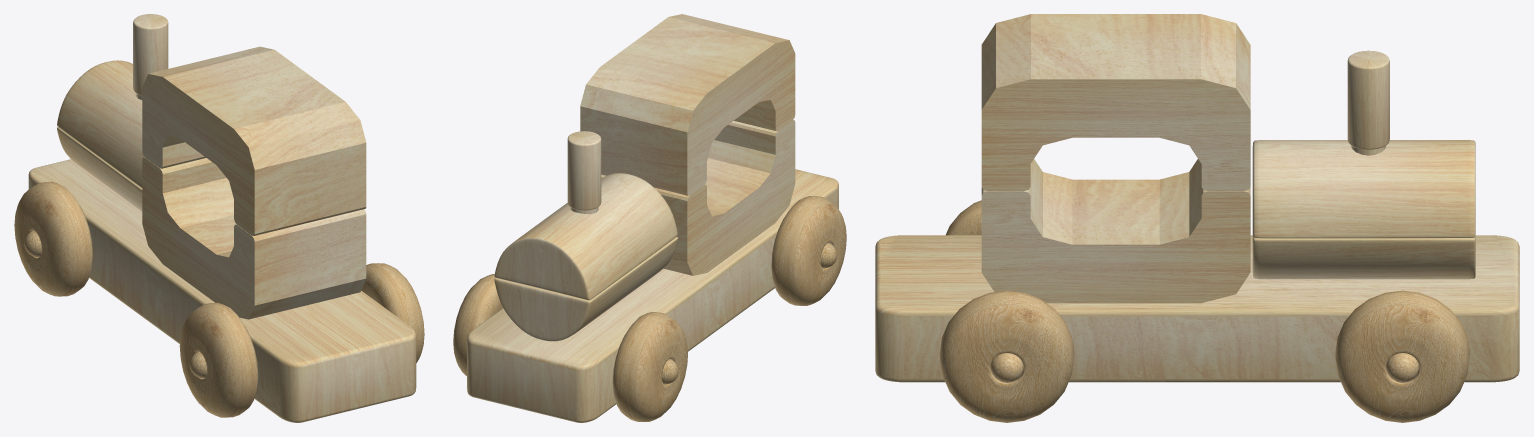
File: buheirf.fbx
3 renders of one model, left to right at view 1: azimuth 30°, elevation 25°; view 2: azimuth 150°, elevation 25°; view 3: azimuth 270°, elevation 25°, orthographic. The views are drawn at different scales.
Visible parts, largest first — view 1: Extrude_1_2, Cube, Extrude_1, Cylinder_Cylinder_4, Subdivision_Surface_2_2, Subdivision_Surface_1_2, Subdivision_Surface_3, Cylinder_4, Cylinder_1; view 2: Extrude_1_2, Cube, Cylinder_Cylinder_4, Extrude_1, Subdivision_Surface_1_2, Subdivision_Surface_2_2, Cylinder_1, Cylinder_4, Subdivision_Surface_2; view 3: Cube, Extrude_1_2, Extrude_1, Cylinder_Cylinder_4, Subdivision_Surface_3, Subdivision_Surface_2, Cylinder_1, Cylinder_4, Subdivision_Surface_1_2, Cylinder_2, Cylinder_3.
Boxes of the visible parts, <box> form: Extrude_1_2: <box>142,46,366,235</box>; Cube: <box>28,159,416,422</box>; Extrude_1: <box>142,157,366,319</box>; Cylinder_Cylinder_4: <box>57,60,144,187</box>; Subdivision_Surface_2_2: <box>14,181,92,296</box>; Subdivision_Surface_1_2: <box>179,302,258,417</box>; Subdivision_Surface_3: <box>361,263,424,362</box>; Cylinder_4: <box>133,14,168,95</box>; Cylinder_1: <box>57,127,142,211</box>; Extrude_1_2: <box>580,14,795,195</box>; Cube: <box>467,169,838,422</box>; Cylinder_Cylinder_4: <box>494,173,677,300</box>; Extrude_1: <box>601,120,795,275</box>; Subdivision_Surface_1_2: <box>771,196,846,305</box>; Subdivision_Surface_2_2: <box>612,312,687,421</box>; Cylinder_1: <box>494,237,678,341</box>; Cylinder_4: <box>567,131,601,210</box>; Subdivision_Surface_2: <box>453,274,502,375</box>; Cube: <box>875,235,1519,382</box>; Extrude_1_2: <box>981,14,1250,190</box>; Extrude_1: <box>981,159,1250,303</box>; Cylinder_Cylinder_4: <box>1252,140,1475,238</box>; Subdivision_Surface_3: <box>939,290,1074,422</box>; Subdivision_Surface_2: <box>1335,290,1469,422</box>; Cylinder_1: <box>1252,231,1475,279</box>; Cylinder_4: <box>1347,50,1389,149</box>; Subdivision_Surface_1_2: <box>946,200,981,235</box>; Cylinder_2: <box>1386,353,1419,382</box>; Cylinder_3: <box>990,353,1023,382</box>.
Bounding box in the file's own units: 140 × 165 × 295.
Materials: 2 (2 with a texture image).
